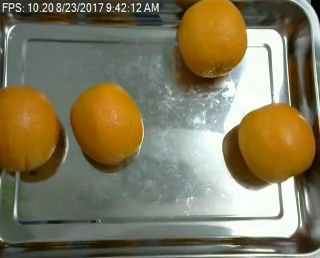Orange: (238, 102, 317, 183), (70, 83, 144, 163), (179, 1, 248, 78), (1, 86, 59, 172)
